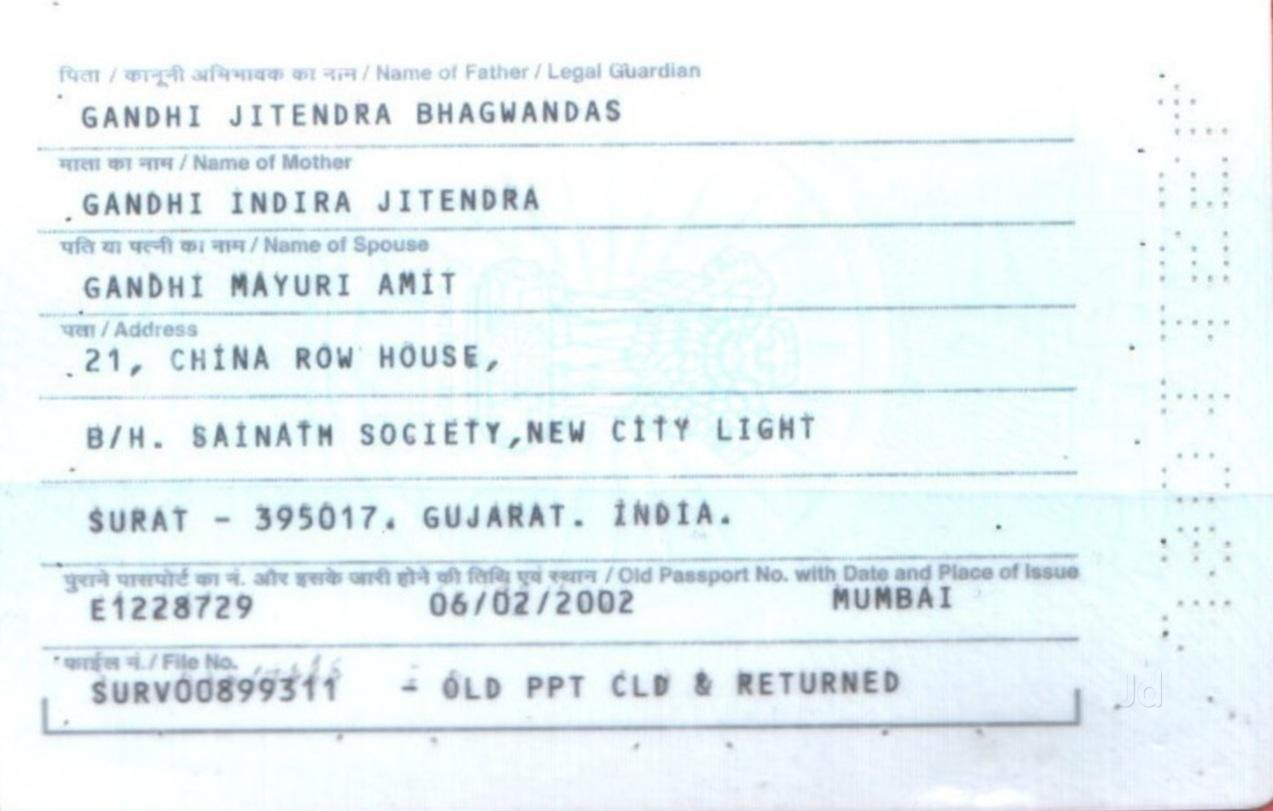File_no: (85, 673, 353, 710)
address: (65, 337, 885, 547)
father_name: (65, 97, 636, 139)
mother_name: (72, 175, 555, 226)
old_passport_details: (72, 585, 980, 624)
spouse_name: (77, 262, 476, 305)
